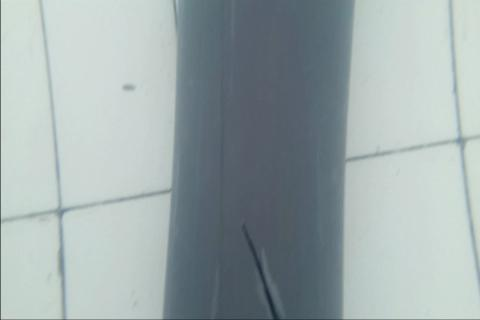keretakan: (240, 222, 283, 320)
